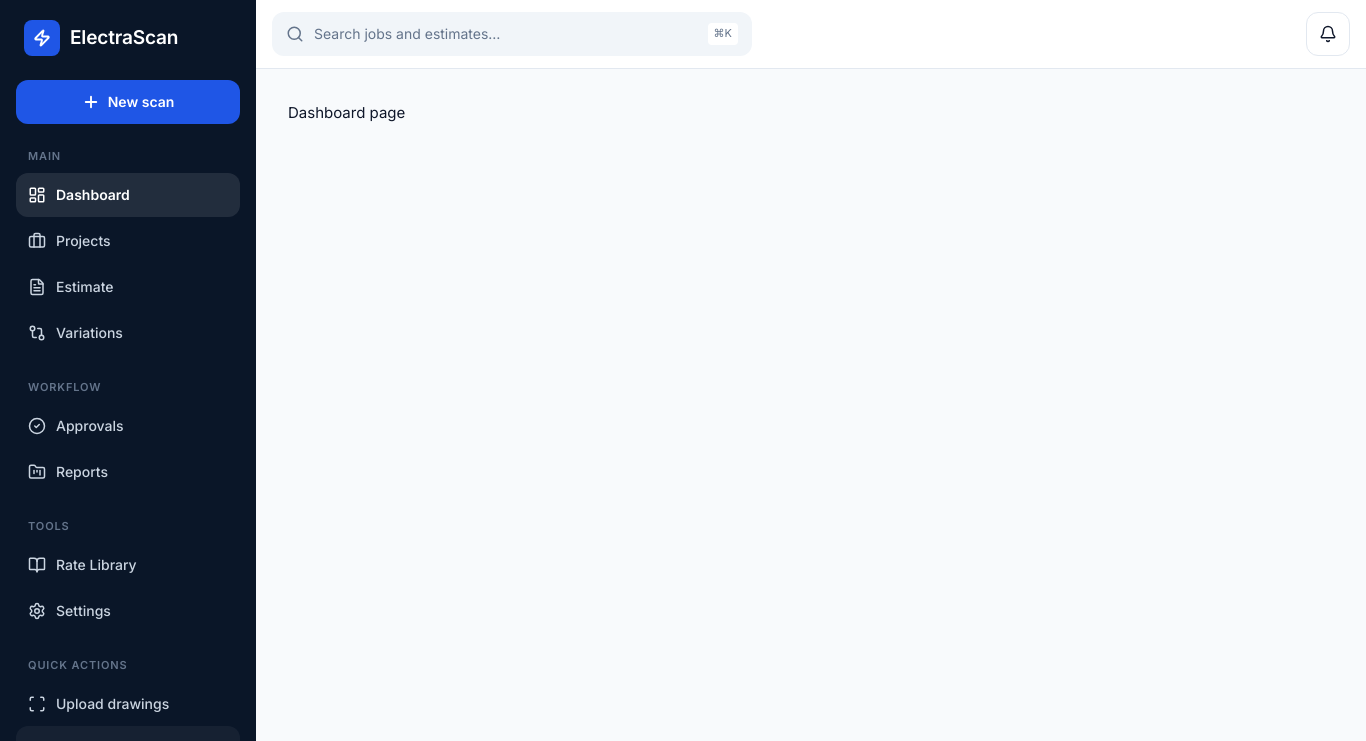
Test: DesktopShell V1 navy chrome › keeps the bell honest — no unread badge, empty copy only
Click the button named "notifications": click(1328, 34) [1306,12,1350,56]
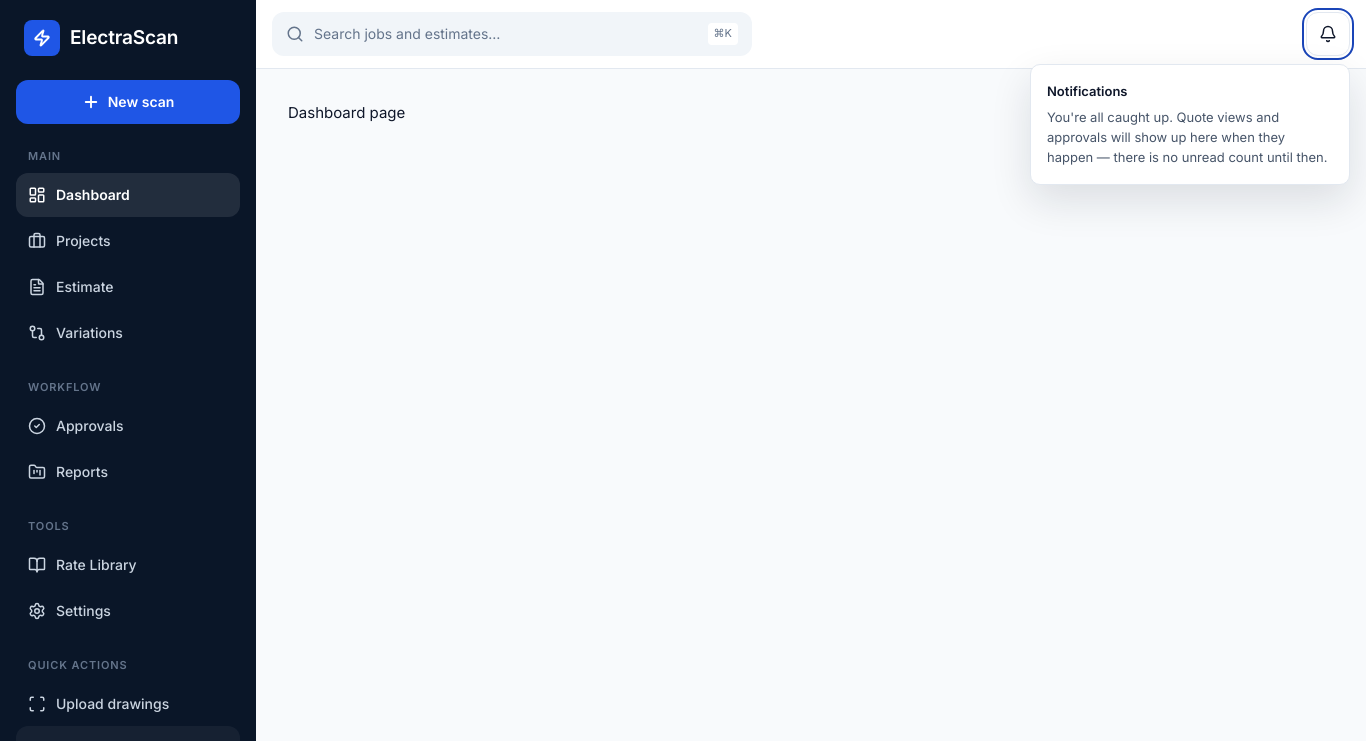
Now the dialog "Notifications" is shown, box [1030,64,1350,185]
Now the text "you.re all caught up" is shown, box [1047,109,1327,165]
